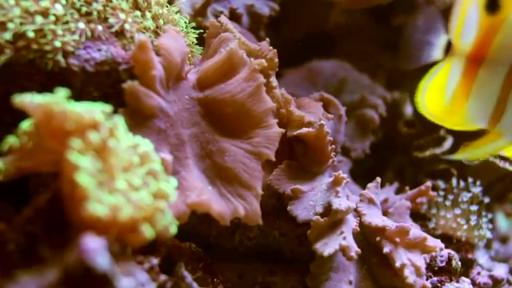Fish: (415, 0, 511, 160), (398, 0, 449, 70)
